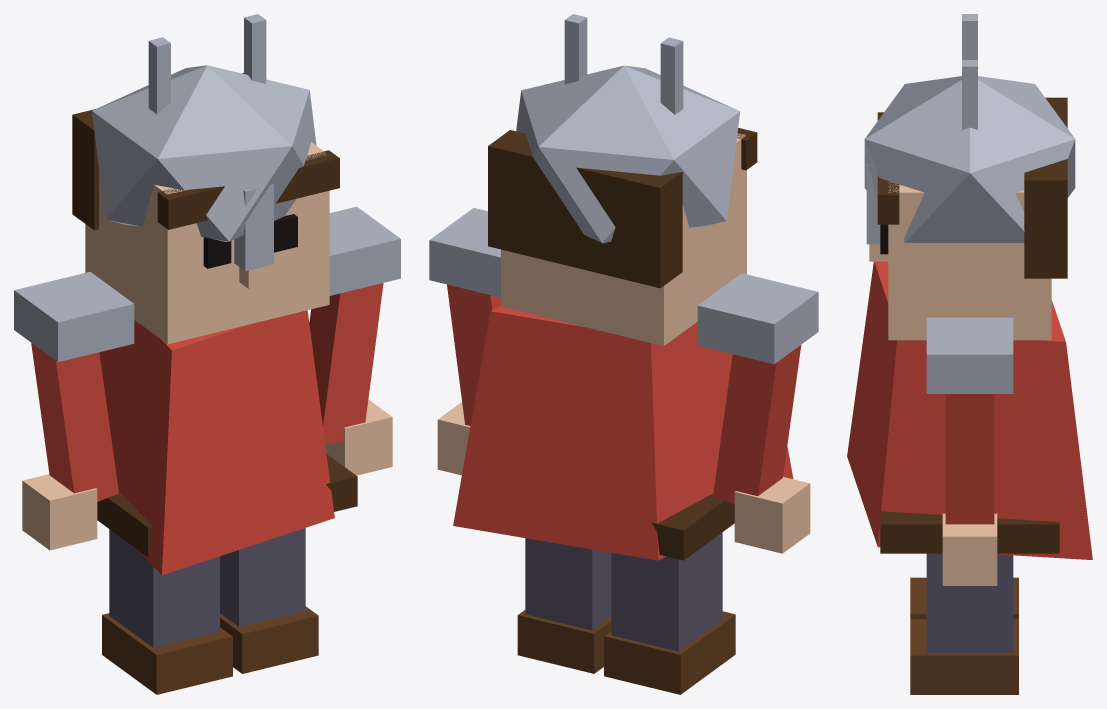
Rendered from VillagerStrong.fbx.
3 renders of one model, left to right at view 1: azimuth 30°, elevation 25°; view 2: azimuth 150°, elevation 25°; view 3: azimuth 270°, elevation 25°, orthographic.
Visible parts, largest first — view 1: VillagerStrong; view 2: VillagerStrong; view 3: VillagerStrong.
Part boxes in pixels (x1,y1,x2,y2): VillagerStrong: (14,14,400,694); VillagerStrong: (429,14,818,694); VillagerStrong: (847,14,1092,694).
Size of the model in its own units: 0.72 by 1.25 by 0.4525.
